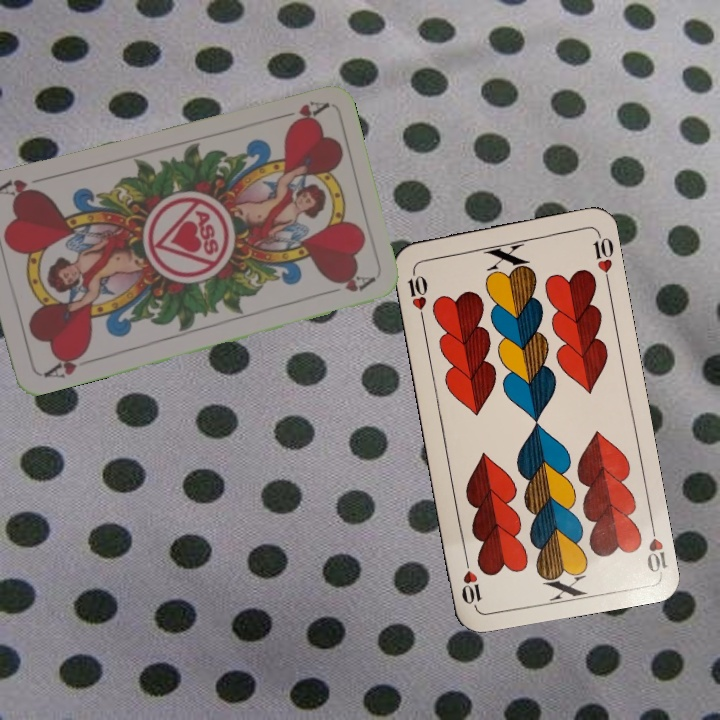H10: (404, 264, 430, 323), (643, 516, 669, 575)
HA: (270, 96, 329, 129), (39, 347, 95, 381)
